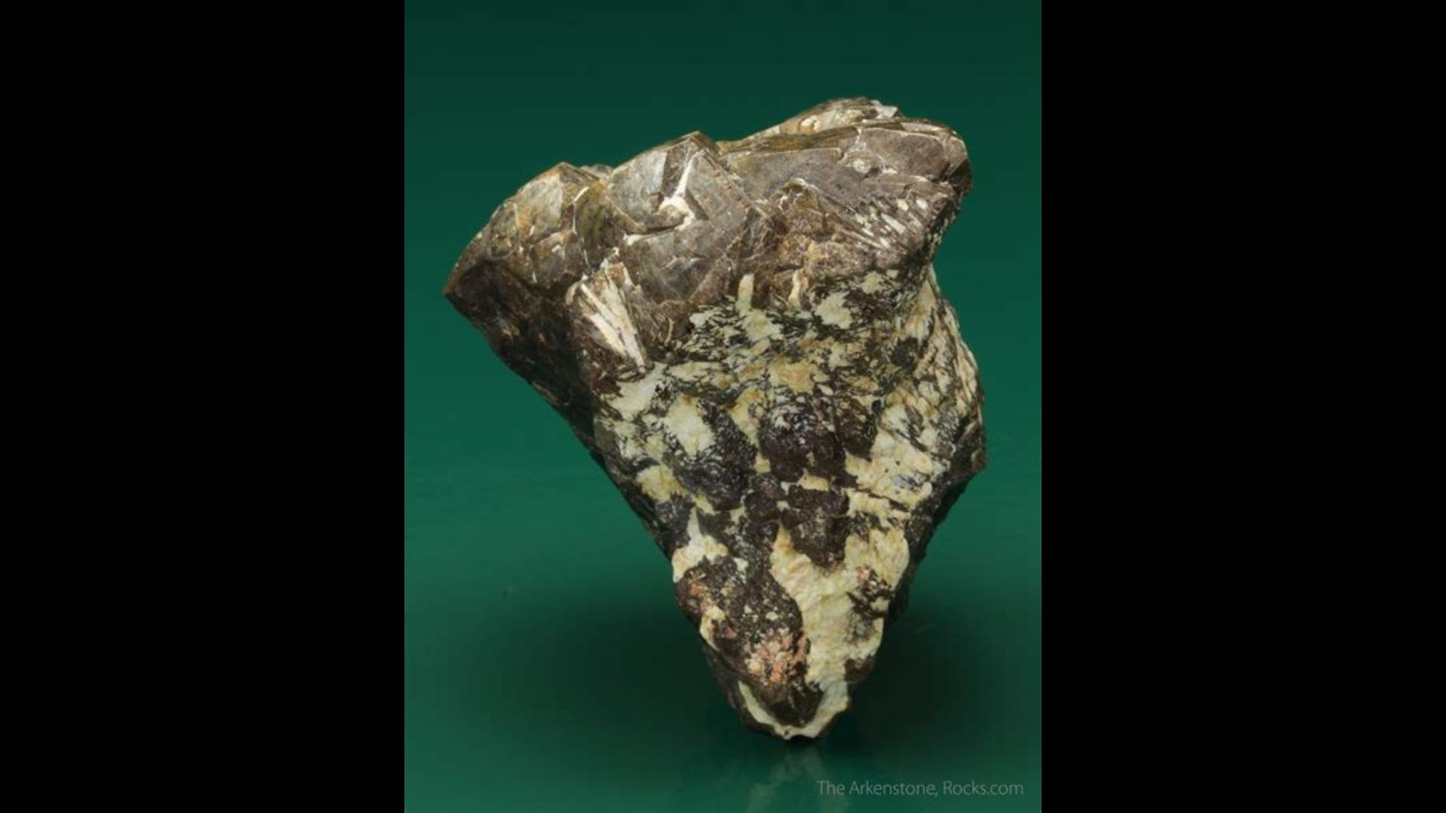rock: (447, 98, 984, 738)
